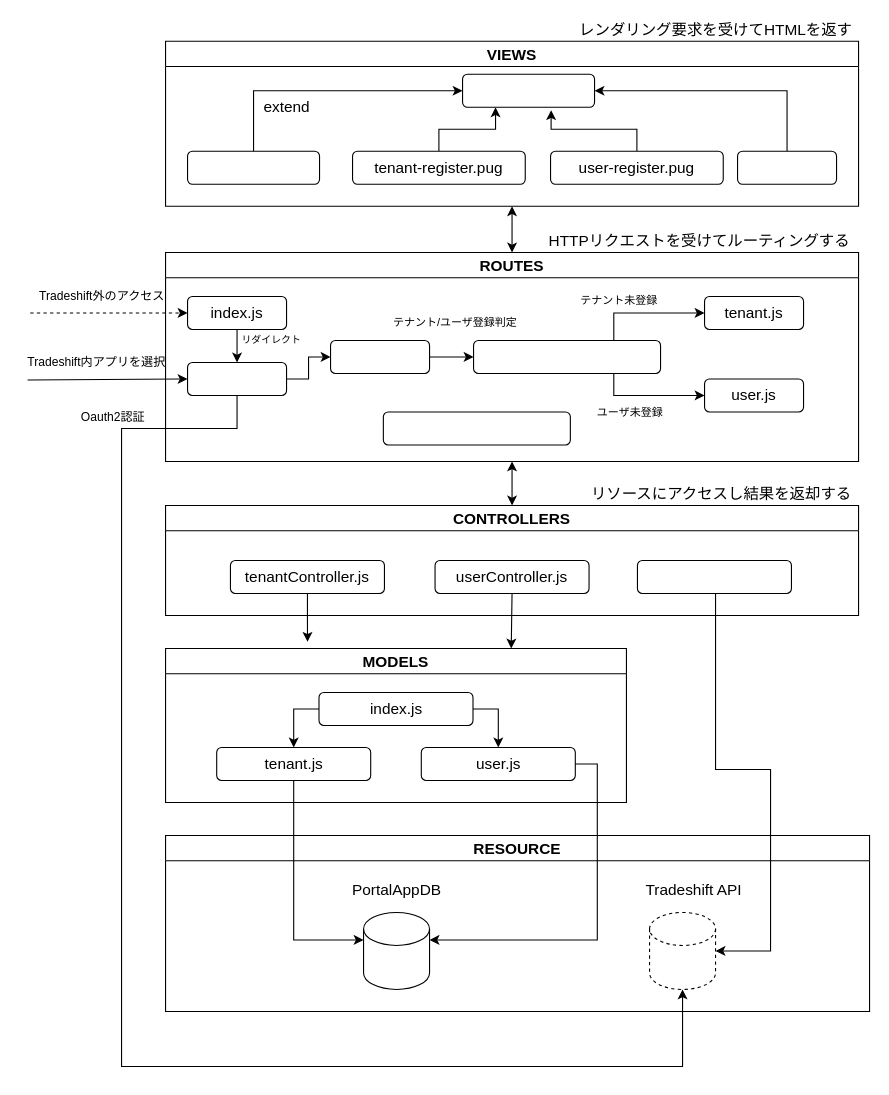
The diagram is 889 pixels wide and 1095 high, and some of its shapes have lost their labels. Here are the shapes that lost their labels. From the top down, the centre of each, then its label:
[528,90]: layout.pug
[253,167]: portal.pug
[786,167]: error.pug
[379,356]: portal.js
[566,356]: helpers/middleware.js
[236,378]: auth.js
[476,428]: helpers/error.js
[713,576]: apihelper.js
